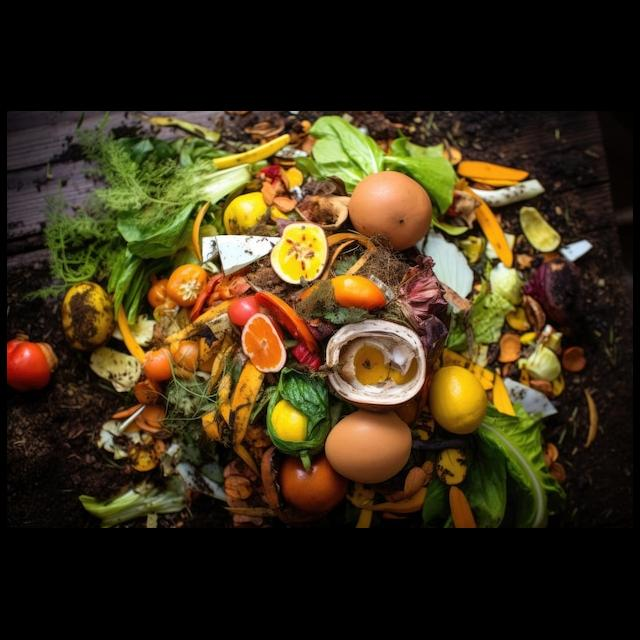food_waste: (319, 124, 474, 231), (468, 399, 563, 528), (320, 310, 431, 415), (310, 409, 436, 493), (111, 141, 187, 271), (7, 410, 95, 521), (186, 365, 287, 449), (86, 390, 180, 467), (571, 396, 633, 510), (264, 441, 344, 528), (471, 119, 554, 201), (349, 165, 435, 243), (77, 472, 192, 528), (212, 449, 291, 528), (495, 311, 569, 385), (65, 279, 129, 361), (35, 210, 121, 270), (422, 349, 487, 428), (539, 245, 594, 331), (241, 304, 296, 386), (213, 132, 305, 181), (7, 335, 67, 402), (151, 112, 229, 148), (520, 203, 568, 260), (155, 267, 218, 307), (168, 329, 217, 380), (542, 330, 585, 385), (138, 345, 182, 384)
